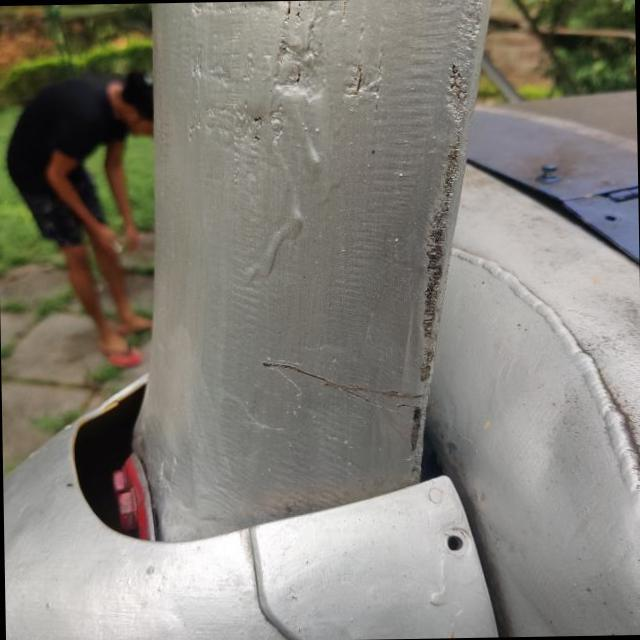Fastener Damage: (428, 511, 491, 576)
